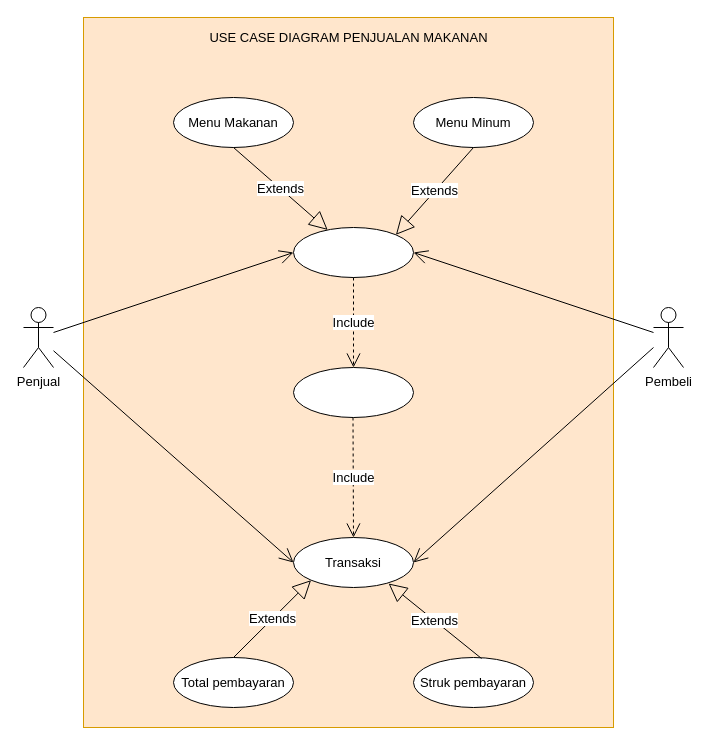
Some shapes in this 709 by 745 pixel diagram are drawn without their labels. The shapes that lost their labels are listed below. From the top down, each one's centre as x and y in pixels, then its label:
At (353,252): "Pilih menu".
At (353,392): "Total pesanan".
